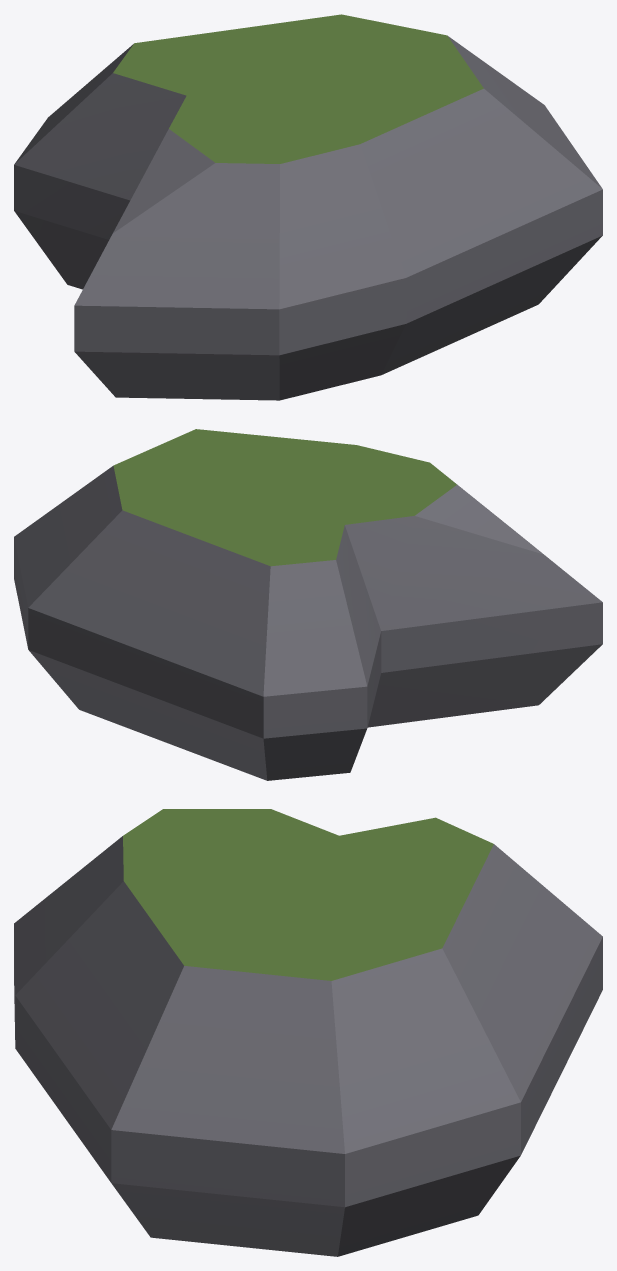
The model's file is rock.glb.
3 views of the same model, one above another, from view 1: azimuth 30°, elevation 25°; view 2: azimuth 150°, elevation 25°; view 3: azimuth 270°, elevation 25° (orthographic). The views are drawn at different scales.
Parts seen in each view (by area): view 1: rock; view 2: rock; view 3: rock.
Part boxes in pixels (x1,y1,x2,y2): rock: (14, 14, 602, 400); rock: (14, 429, 602, 780); rock: (14, 809, 602, 1256).
Bounding box in the file's own units: 3.8 × 1.4 × 3.
